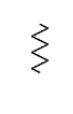resistor: (27, 17, 52, 76)
